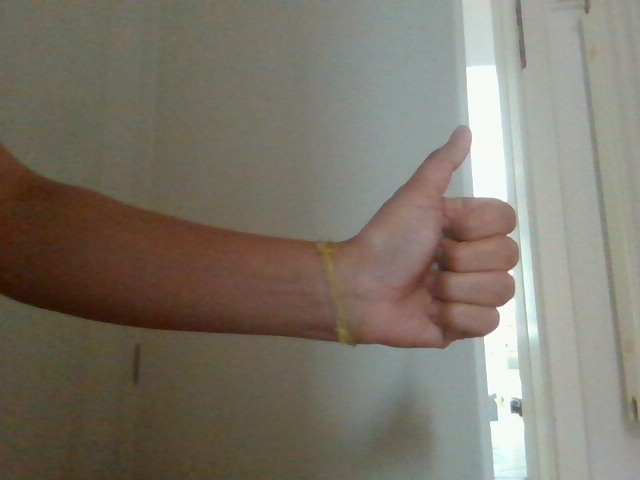thumbs_up: (348, 123, 524, 352)
